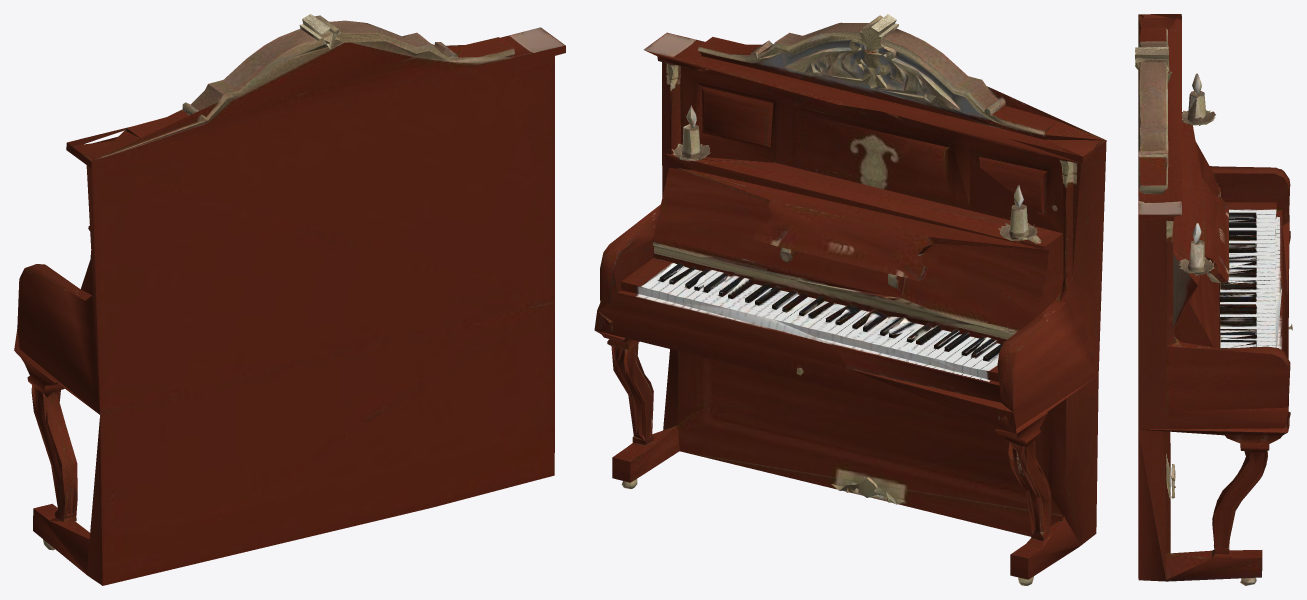
Rendered from mj-piano-upright.glb.
3 views of the same model, side by side, from view 1: azimuth 30°, elevation 25°; view 2: azimuth 150°, elevation 25°; view 3: azimuth 270°, elevation 25° (orthographic). The views are drawn at different scales.
Visible parts, largest first — view 1: mj-piano-upright; view 2: mj-piano-upright; view 3: mj-piano-upright.
Boxes of the visible parts, x1,y1,x2,y2 form: mj-piano-upright: [14, 14, 565, 585]; mj-piano-upright: [594, 14, 1106, 585]; mj-piano-upright: [1135, 14, 1292, 585].
Bounding box in the file's own units: 1.46 × 1.52 × 0.486.
1 material, 1 textured.
